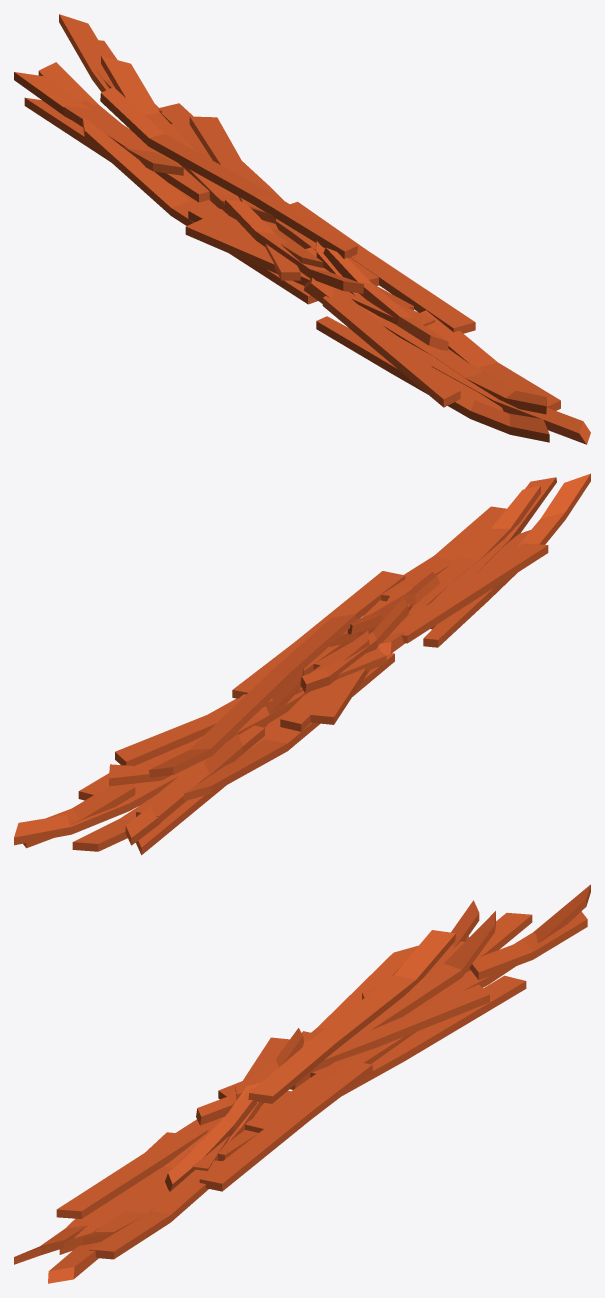
The model's file is gimbap_carrot.fbx.
3 views of the same model, one above another, from view 1: azimuth 30°, elevation 25°; view 2: azimuth 150°, elevation 25°; view 3: azimuth 330°, elevation 25° (orthographic). The views are drawn at different scales.
Parts seen in each view (by area): view 1: gimbap_carrot; view 2: gimbap_carrot; view 3: gimbap_carrot.
Part boxes in pixels (box(x1,y1,x2,y2)): gimbap_carrot: box(14, 14, 590, 444); gimbap_carrot: box(14, 473, 590, 855); gimbap_carrot: box(14, 884, 590, 1283).
Size of the model in its own units: 3.27 by 1.25 by 23.74.
